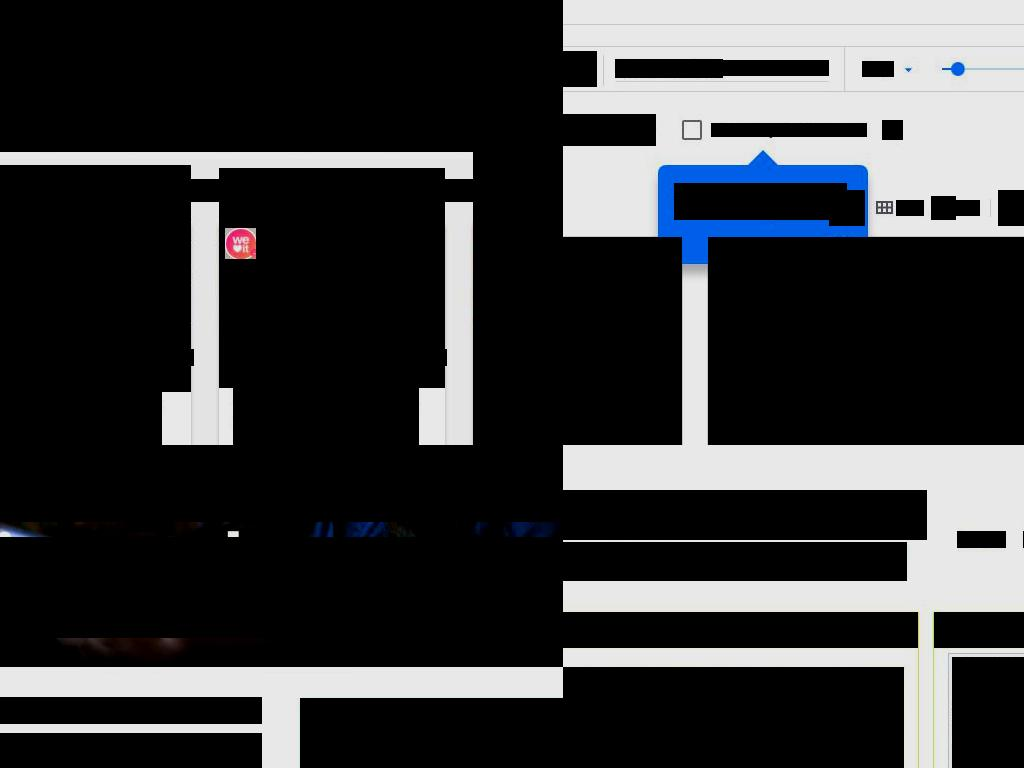button: (708, 237, 1024, 445), (219, 221, 445, 335), (0, 221, 191, 335), (300, 698, 563, 768), (473, 221, 563, 335), (563, 114, 656, 146), (563, 51, 597, 87)
field: (615, 60, 829, 76)
heading: (724, 273, 1024, 317), (0, 179, 563, 202), (0, 697, 262, 724), (724, 249, 1024, 269), (563, 273, 666, 317), (233, 349, 447, 366), (0, 349, 194, 366), (563, 249, 666, 269), (487, 349, 563, 366)
iframe: (0, 0, 563, 152)
image: (219, 168, 445, 388), (0, 165, 191, 392), (563, 667, 904, 768), (473, 77, 563, 445), (225, 228, 256, 259), (479, 228, 510, 259), (226, 228, 256, 259), (480, 228, 510, 259), (872, 196, 897, 220), (931, 196, 956, 220), (882, 120, 903, 140)
link: (708, 321, 1024, 445), (563, 321, 682, 445), (563, 542, 907, 581), (233, 382, 419, 445), (0, 382, 162, 445), (624, 542, 704, 559), (769, 204, 842, 220), (563, 542, 621, 559), (957, 531, 1006, 548), (833, 237, 852, 253)
text: (0, 537, 563, 638), (0, 445, 563, 522), (300, 698, 563, 768), (563, 490, 927, 540), (563, 612, 918, 648), (0, 733, 262, 768), (674, 183, 847, 220), (487, 399, 563, 445), (934, 612, 1024, 648), (88, 231, 183, 255), (342, 231, 437, 255), (704, 542, 835, 559), (711, 123, 867, 137), (615, 59, 723, 78), (563, 115, 621, 145), (829, 190, 865, 226), (487, 382, 563, 397), (862, 61, 894, 77), (896, 200, 924, 216), (635, 252, 666, 266), (955, 200, 980, 216), (1007, 200, 1024, 216), (618, 252, 635, 266)
